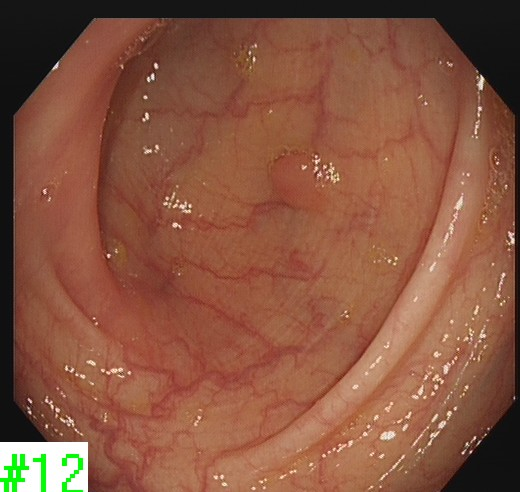adenoma: (267, 150, 327, 212)
